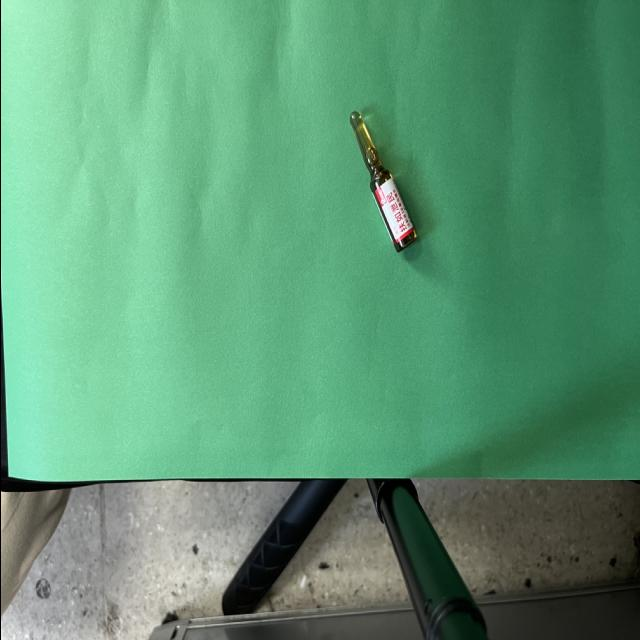Ampoules: (349, 112, 416, 252)
